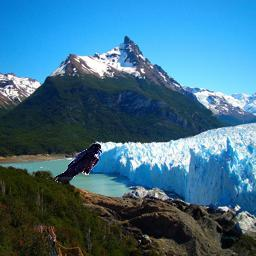Crow: (55, 143, 102, 183)
